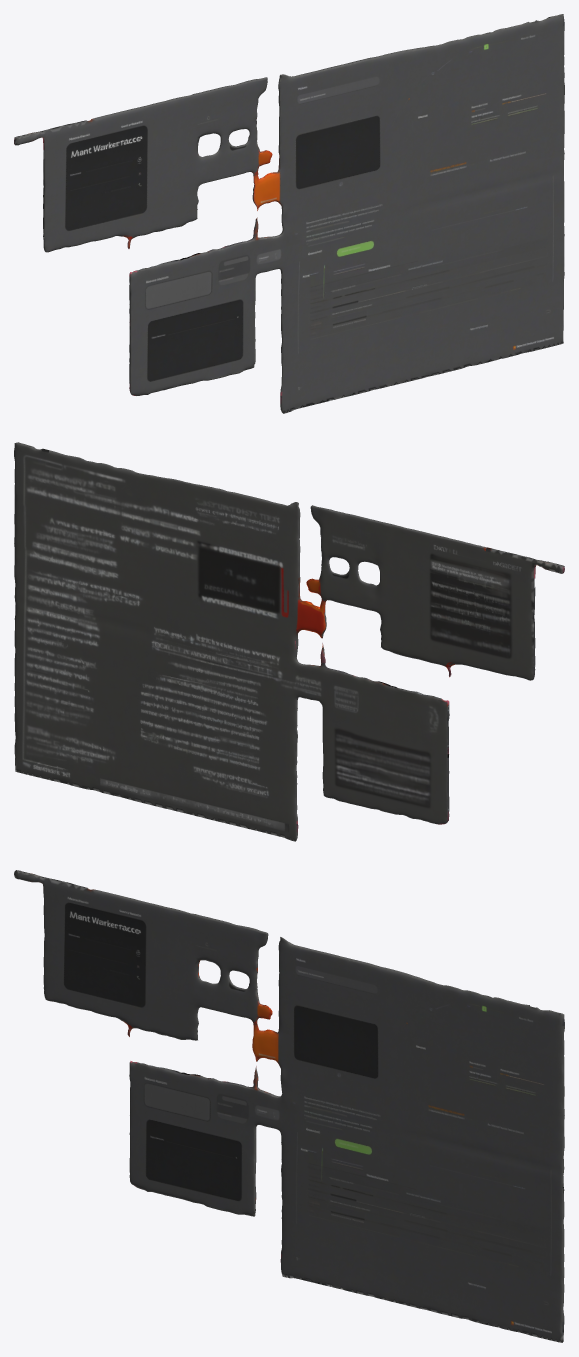
File: prop_delivery_shelf_generated.glb
3 renders of one model, top to bottom at view 1: azimuth 30°, elevation 25°; view 2: azimuth 150°, elevation 25°; view 3: azimuth 330°, elevation 25°, orthographic.
Size of the model in its own units: 2.01 by 1.19 by 0.0154.
Materials: 1 (1 with a texture image).
